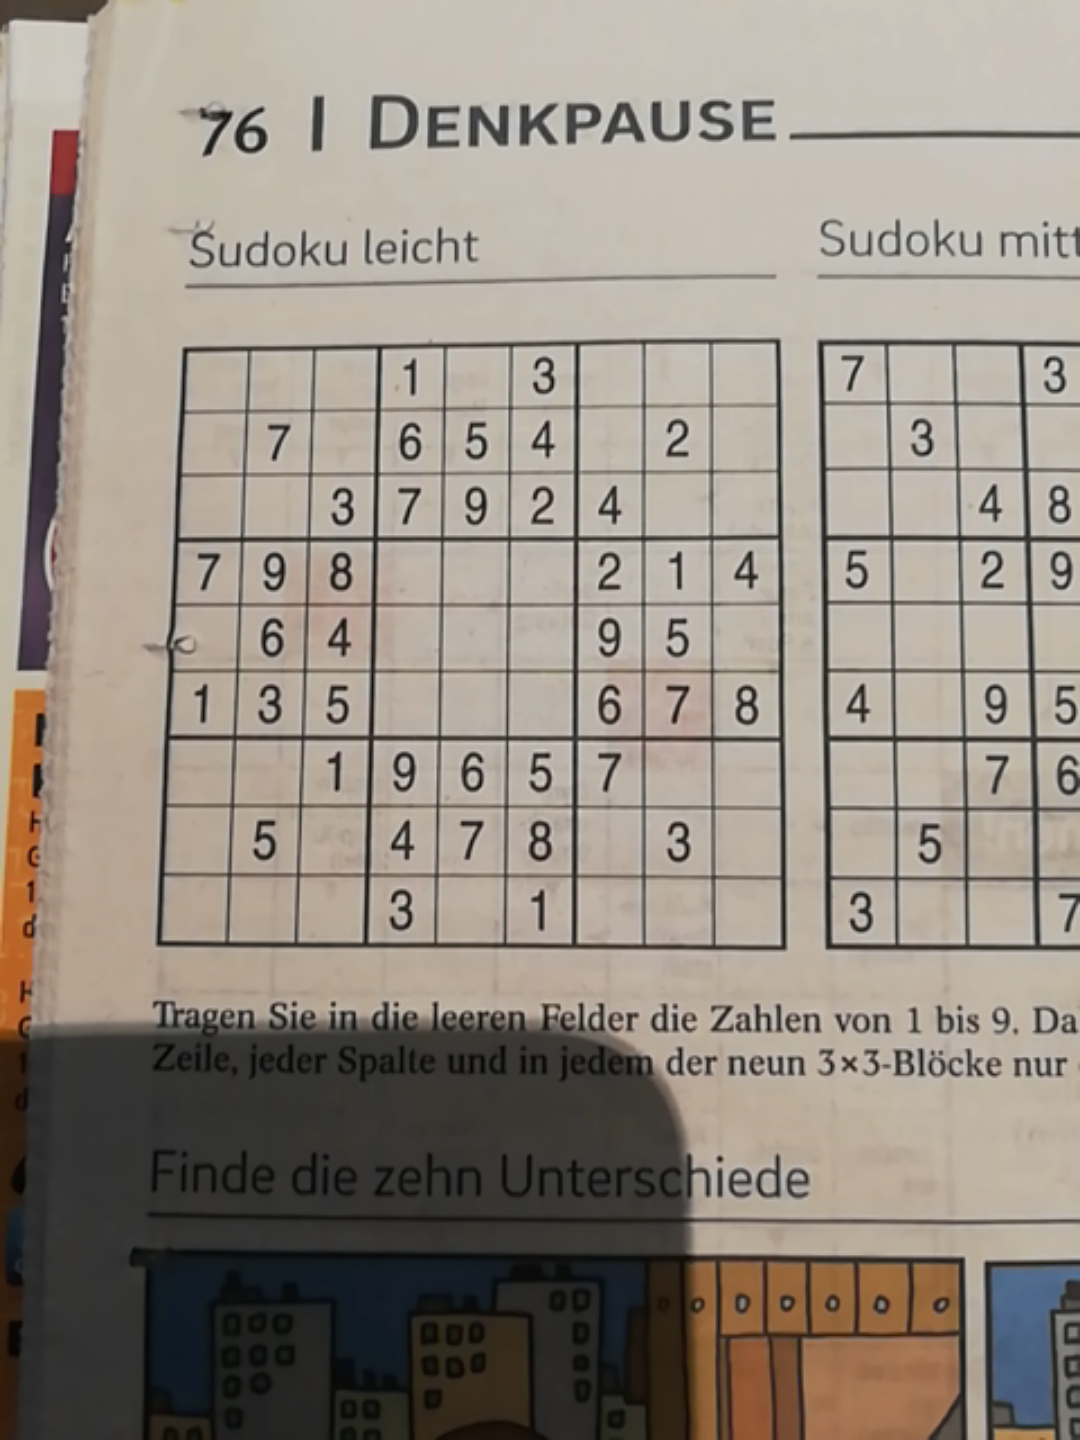sudoku: (151, 335, 789, 953)
